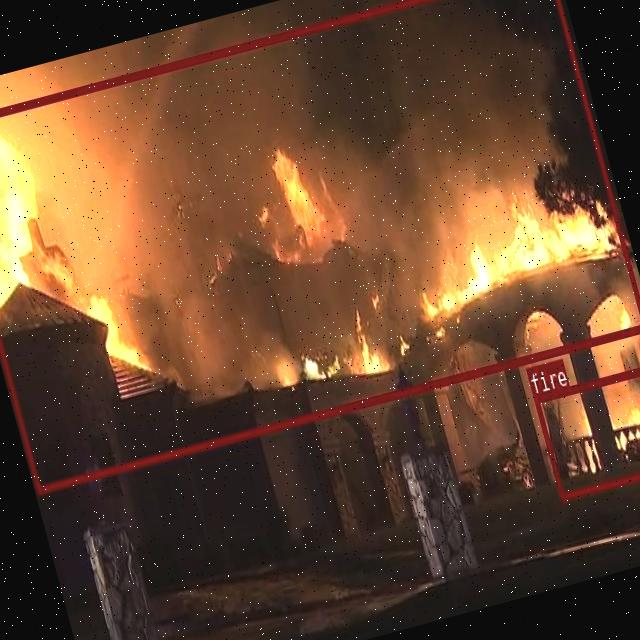fire: (0, 0, 640, 491), (532, 362, 640, 499)
